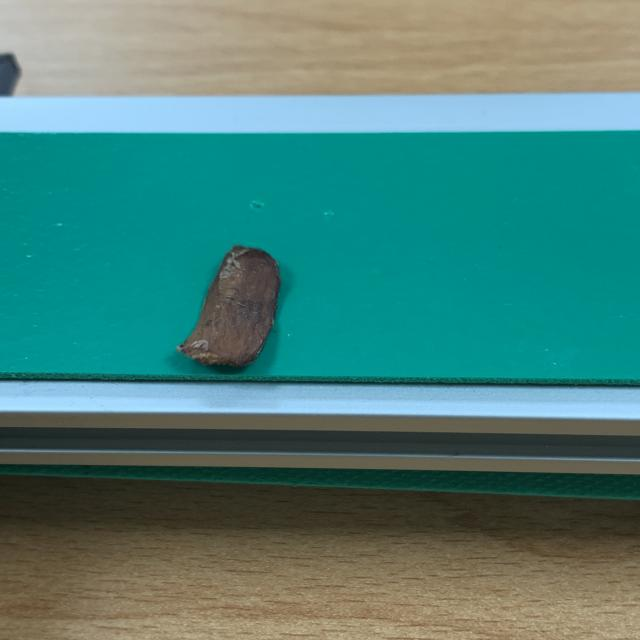Flat_cocoabeans: (126, 230, 346, 403)
